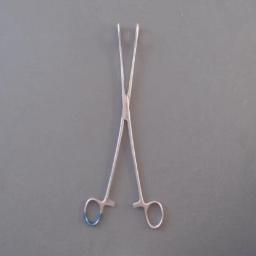Sponge Forceps: (82, 16, 166, 234)
